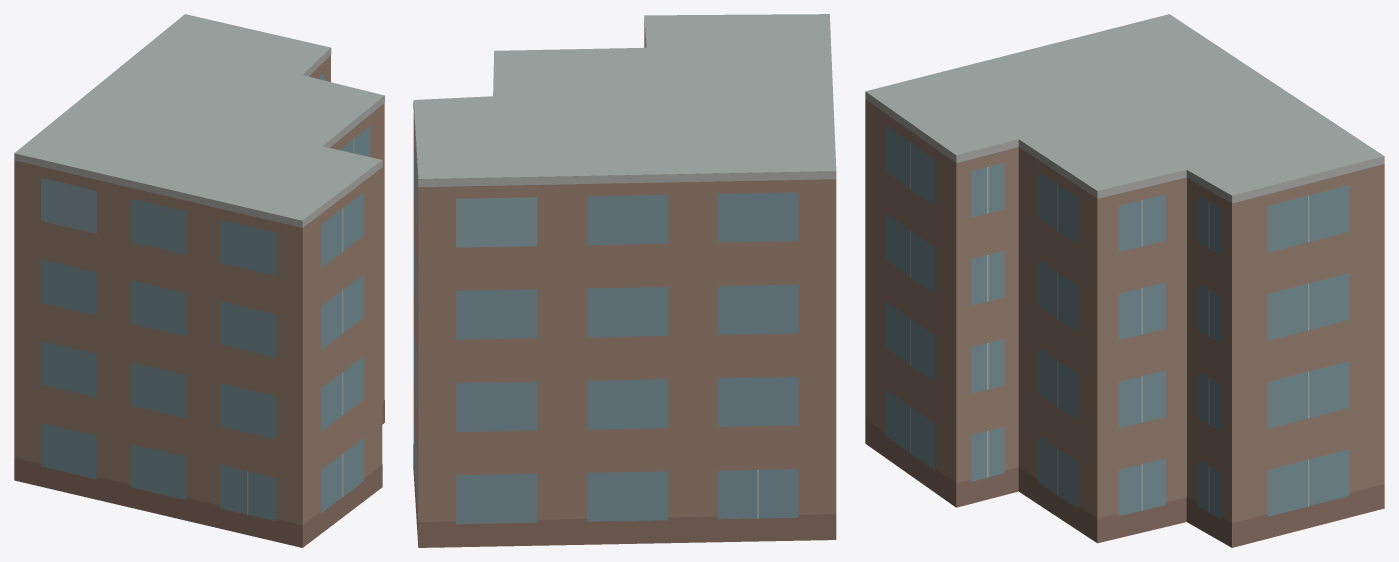
File: survey-upis-32687783.glb
3 renders of one model, left to right at view 1: azimuth 30°, elevation 25°; view 2: azimuth 150°, elevation 25°; view 3: azimuth 270°, elevation 25°, orthographic. The views are drawn at different scales.
Parts seen in each view (by area): view 1: survey-upis-32687783.tmp; view 2: survey-upis-32687783.tmp; view 3: survey-upis-32687783.tmp.
Part boxes in pixels (x1,y1,x2,y2): survey-upis-32687783.tmp: (14,14,384,547); survey-upis-32687783.tmp: (413,14,836,547); survey-upis-32687783.tmp: (865,14,1384,547).
Bounding box in the file's own units: 12.3 × 11.11 × 14.86.
